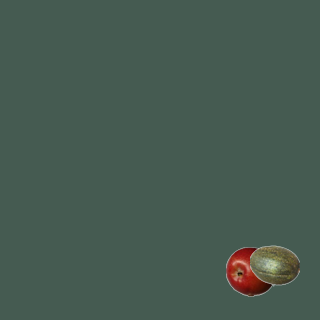Apple Braeburn: (225, 246, 275, 296)
Melon Piel de Sapo: (249, 240, 299, 290)
